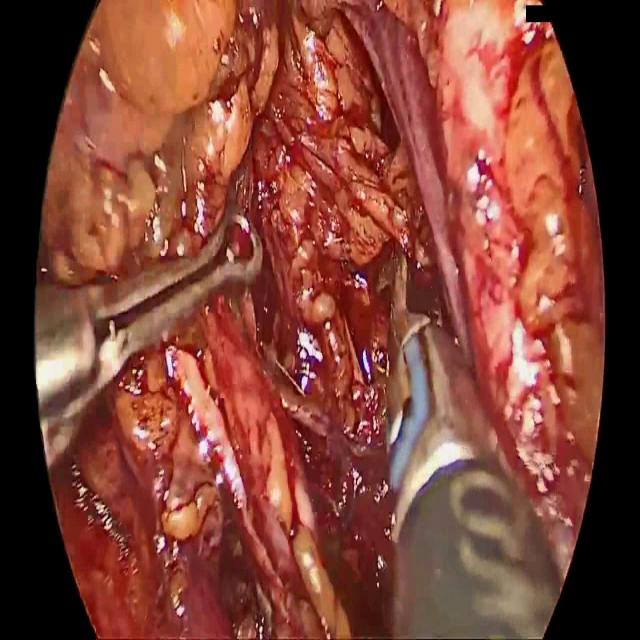surgical-area: (37, 0, 604, 639)
surgical-tool: (386, 249, 564, 638), (34, 202, 262, 465)
